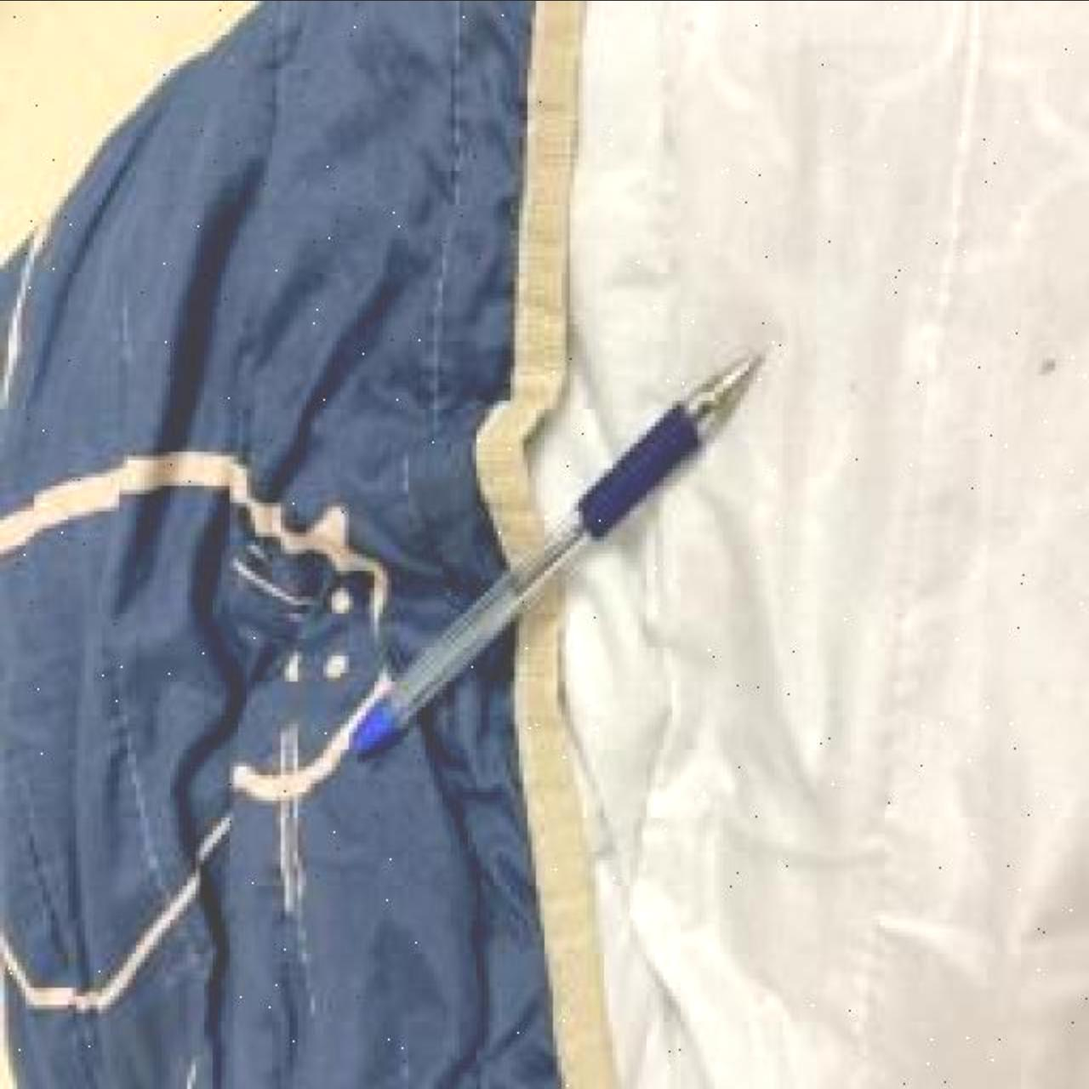pen: (340, 345, 766, 762)
